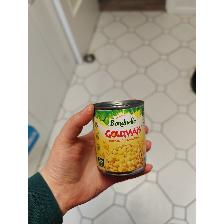Mais: (90, 99, 148, 177)
